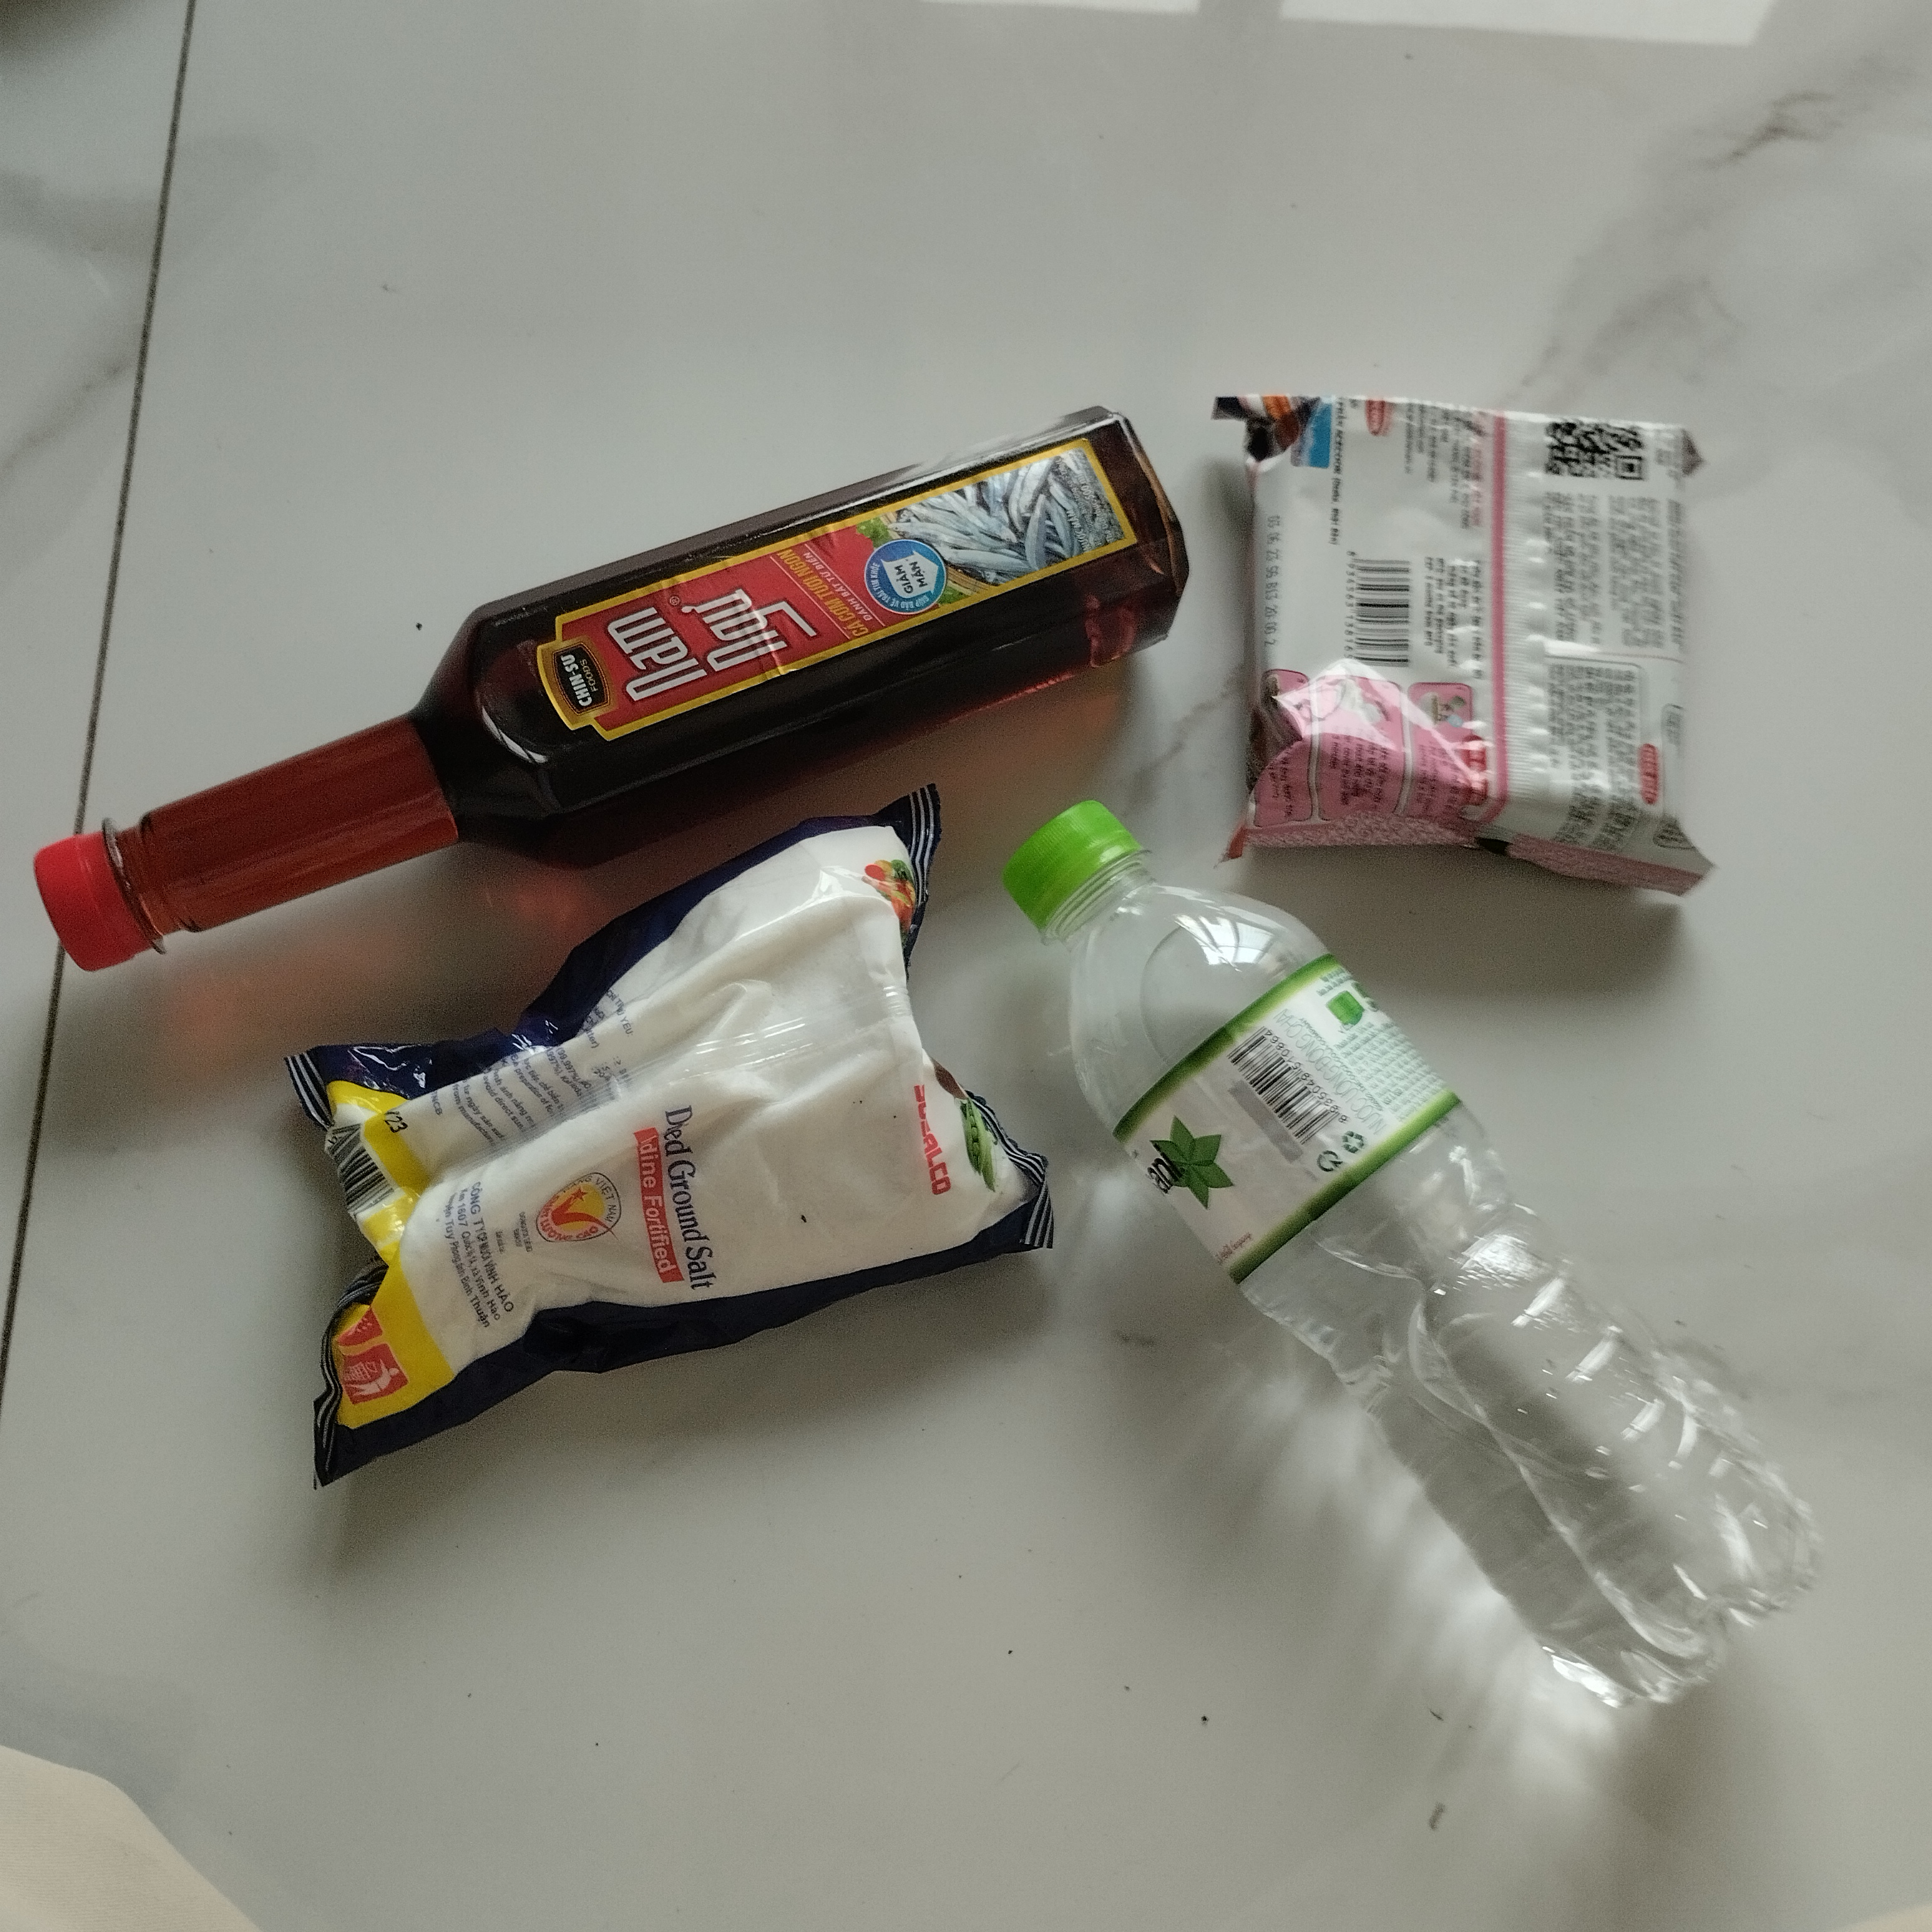Dasani: (1007, 807, 1828, 1723)
Haohao: (1196, 377, 1775, 901)
Namngu: (7, 387, 1200, 980)
Salt: (202, 777, 1067, 1476)
